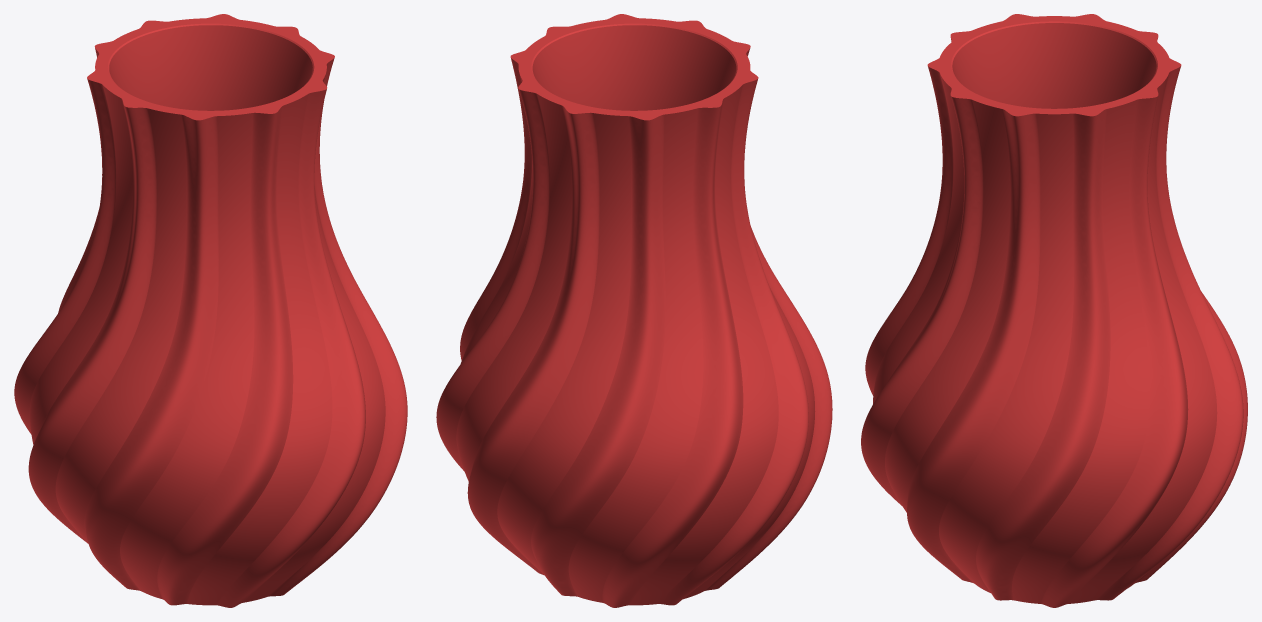
File: vase.glb
3 views of the same model, side by side, from view 1: azimuth 30°, elevation 25°; view 2: azimuth 150°, elevation 25°; view 3: azimuth 270°, elevation 25° (orthographic).
Visible parts, largest first — view 1: =>[0:1:1:3]; view 2: =>[0:1:1:3]; view 3: =>[0:1:1:3].
Boxes of the visible parts, x1,y1,x2,y2 form: =>[0:1:1:3]: (14, 14, 407, 607); =>[0:1:1:3]: (436, 14, 832, 607); =>[0:1:1:3]: (861, 14, 1247, 607).
Size of the model in its own units: 0.1436 by 0.2 by 0.1399.
